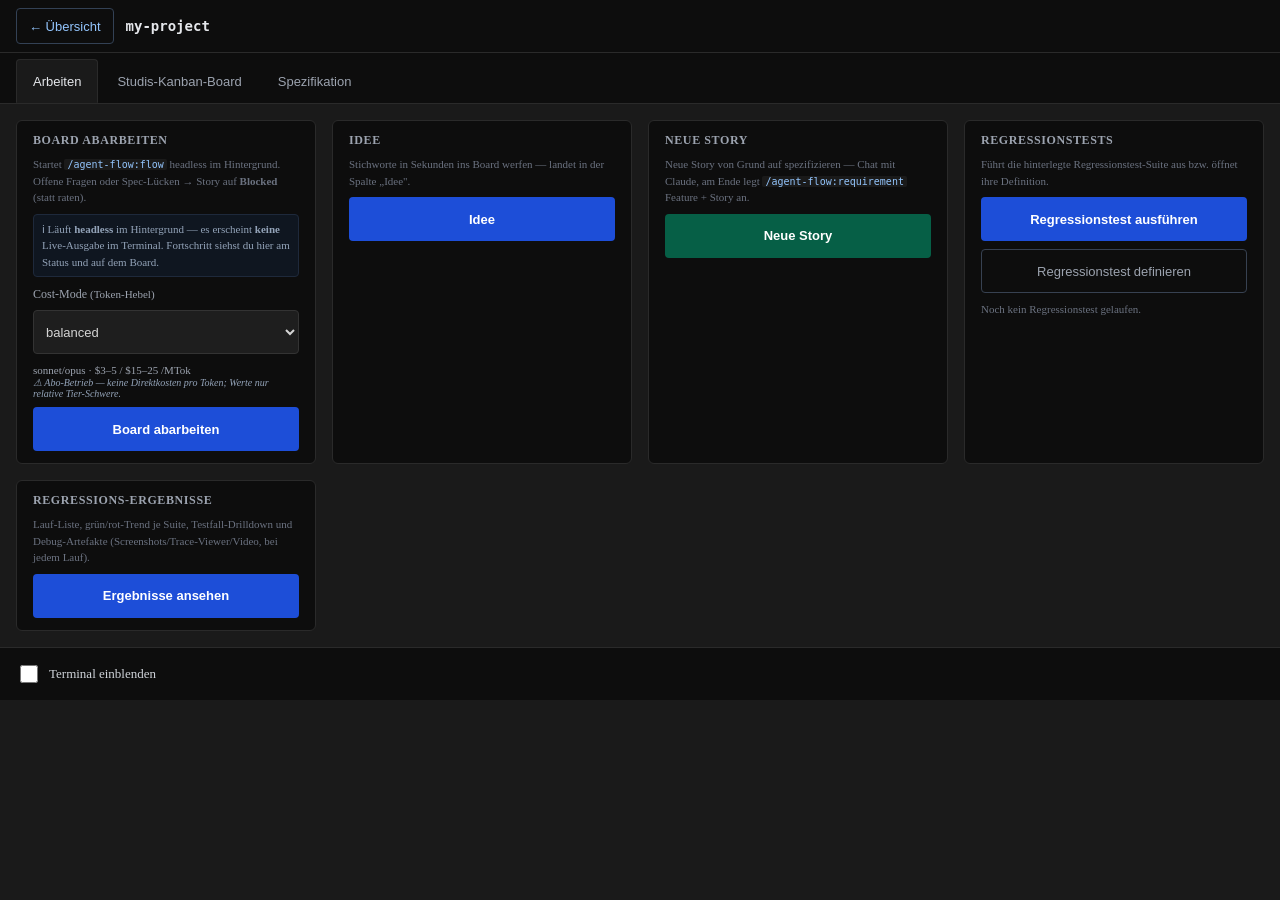
Scenario: drain-completion-report AC7a — manuelle Inline-Status-Fläche zeigt Abschlussbericht bei done › zeigt „X erledigt / Y blockiert" textlich
What coordinates should you click on to do the following:
click the button with test id "flow-board-btn"
I would click on:
 (166, 429)
Its box is x1=33 y1=407 x2=299 y2=451.
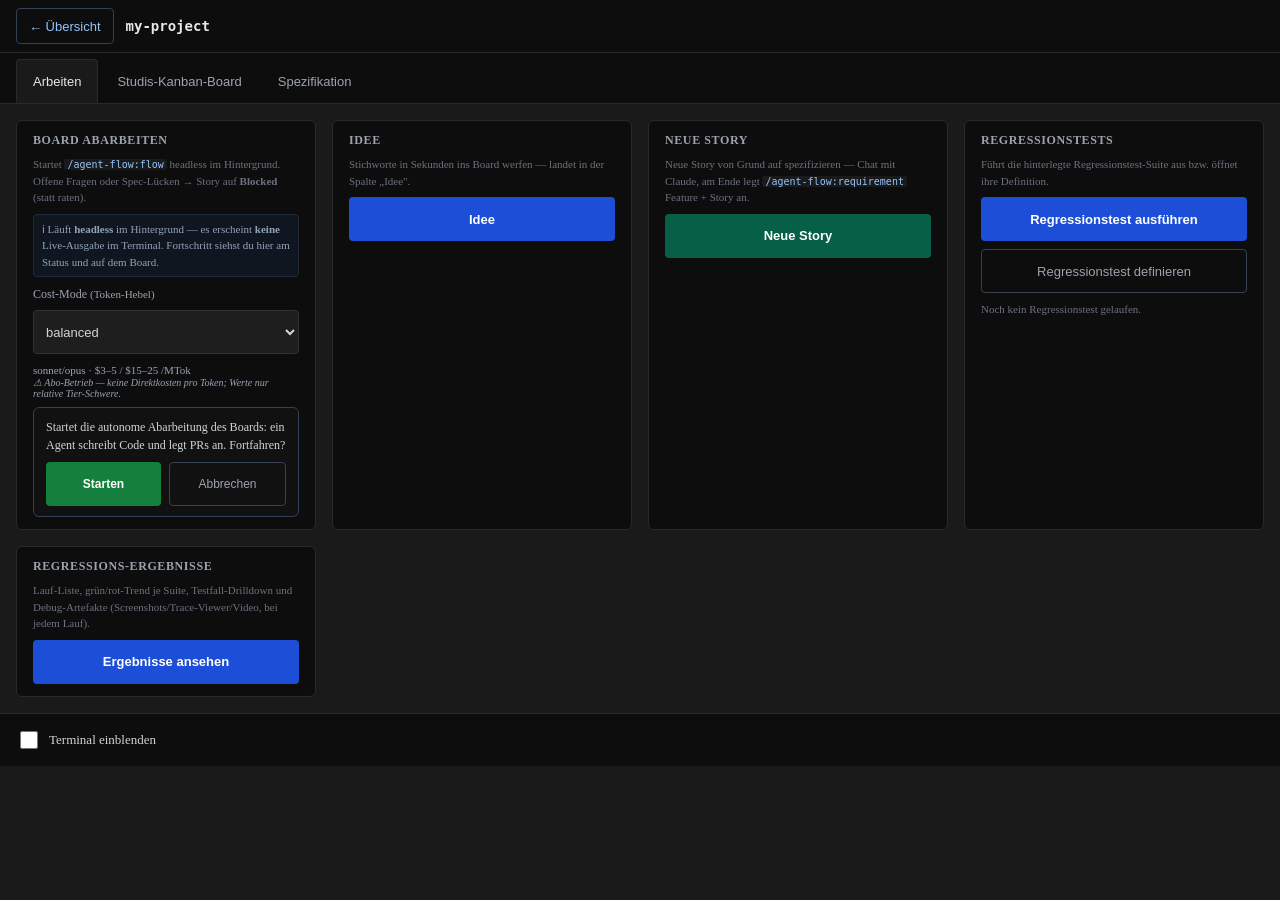
What coordinates should you click on to do the following:
click the button with test id "flow-confirm-yes"
I would click on:
 (104, 484)
Its box is x1=46 y1=462 x2=161 y2=506.
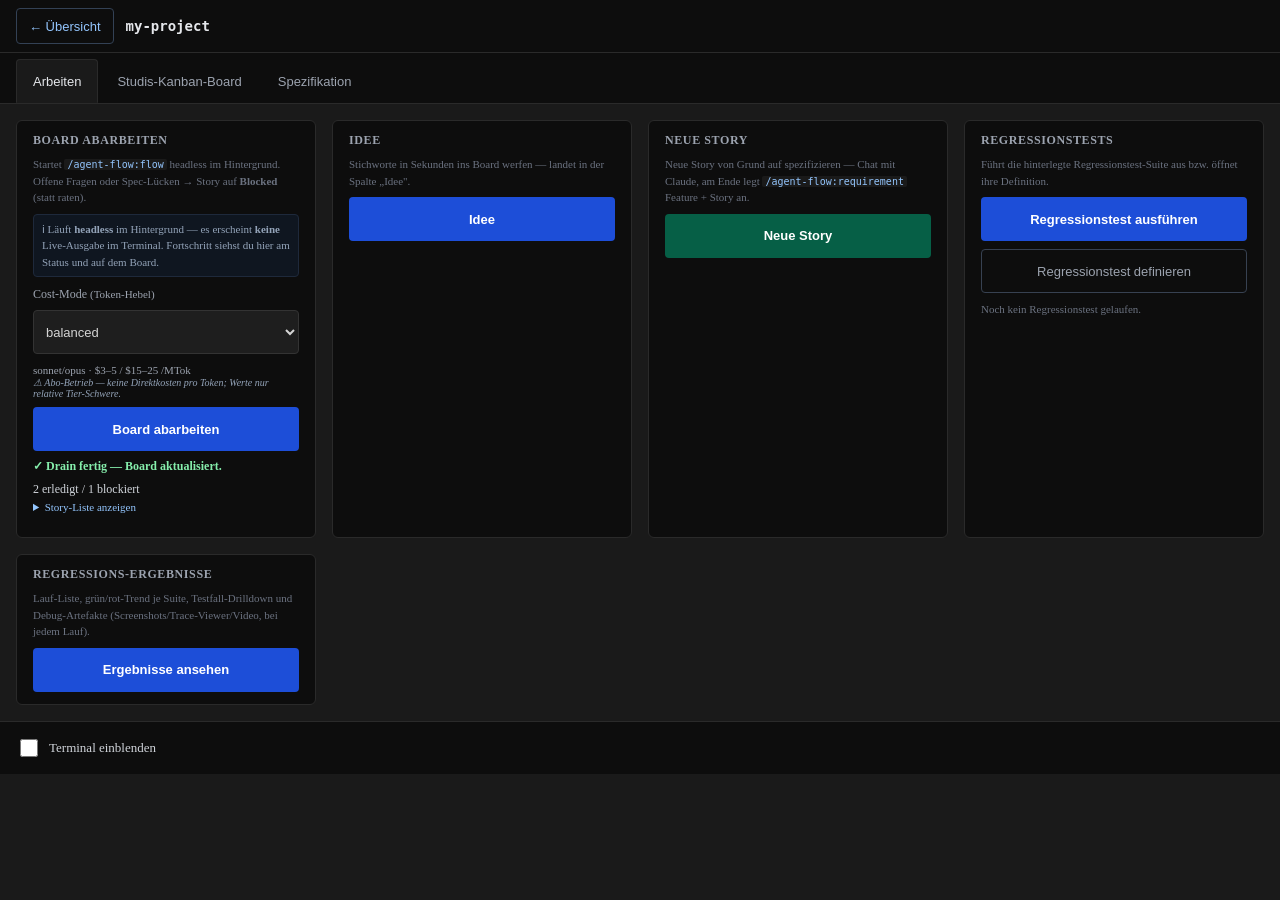
Expected: the element with test id "drain-report-summary" shows "2 erledigt / 1 blockiert", x1=33 y1=482 x2=140 y2=513
